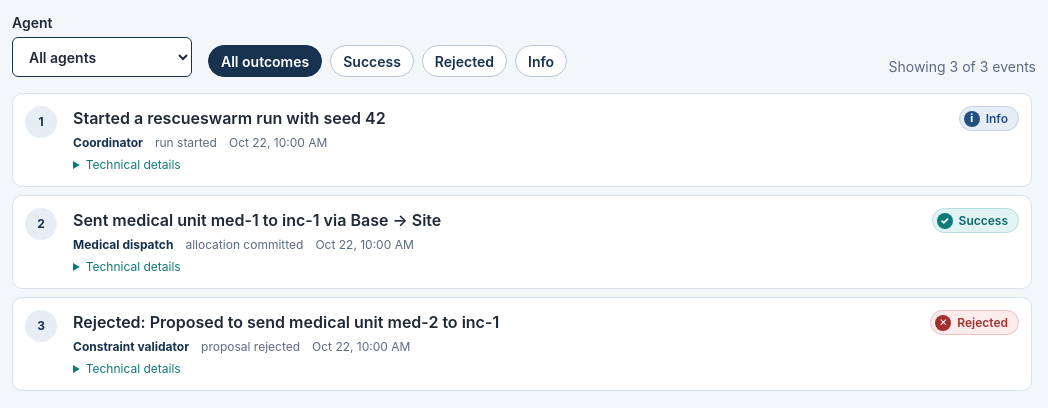
Scenario: EventTimeline › filters by outcome and can be cleared
Click the button "Rejected" at point(464, 61), box [422,45,507,77]
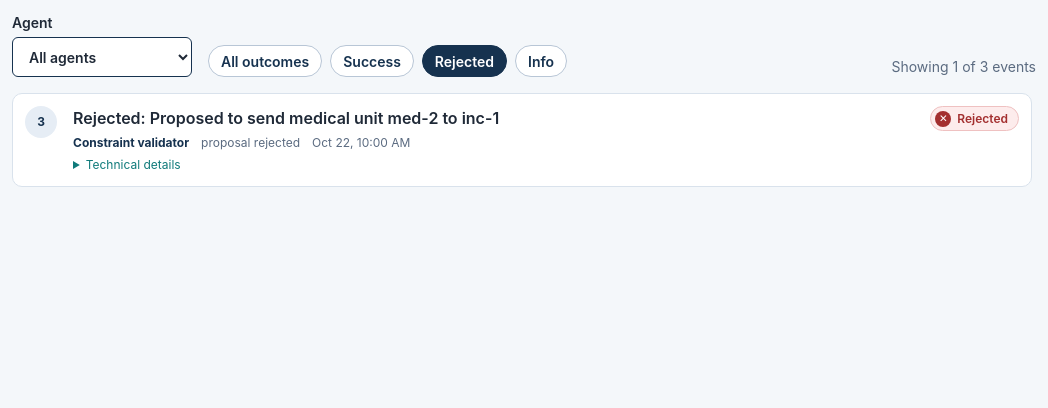
Expected: the text "Showing 1 of 3 events" is shown, [892,56,1036,77]
Click the button "All outcomes" at point(265, 61), box [208,45,322,77]
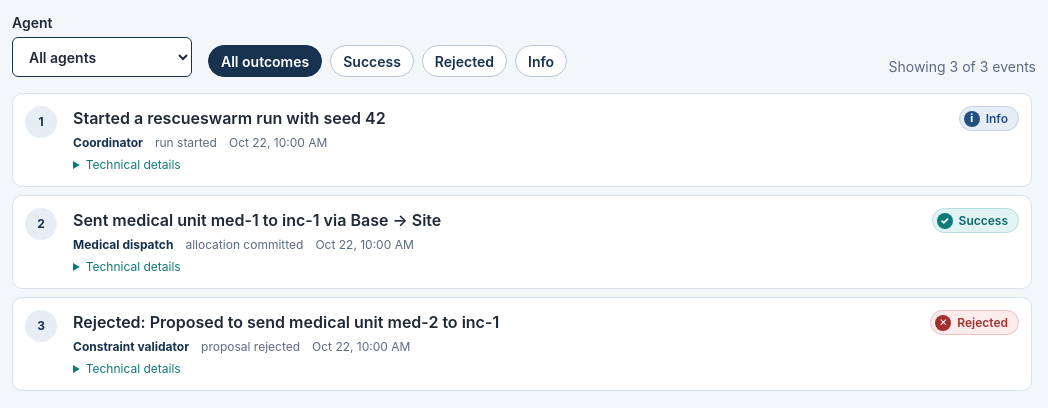
Expected: the text "Showing 3 of 3 events" is shown, [888,56,1036,77]
